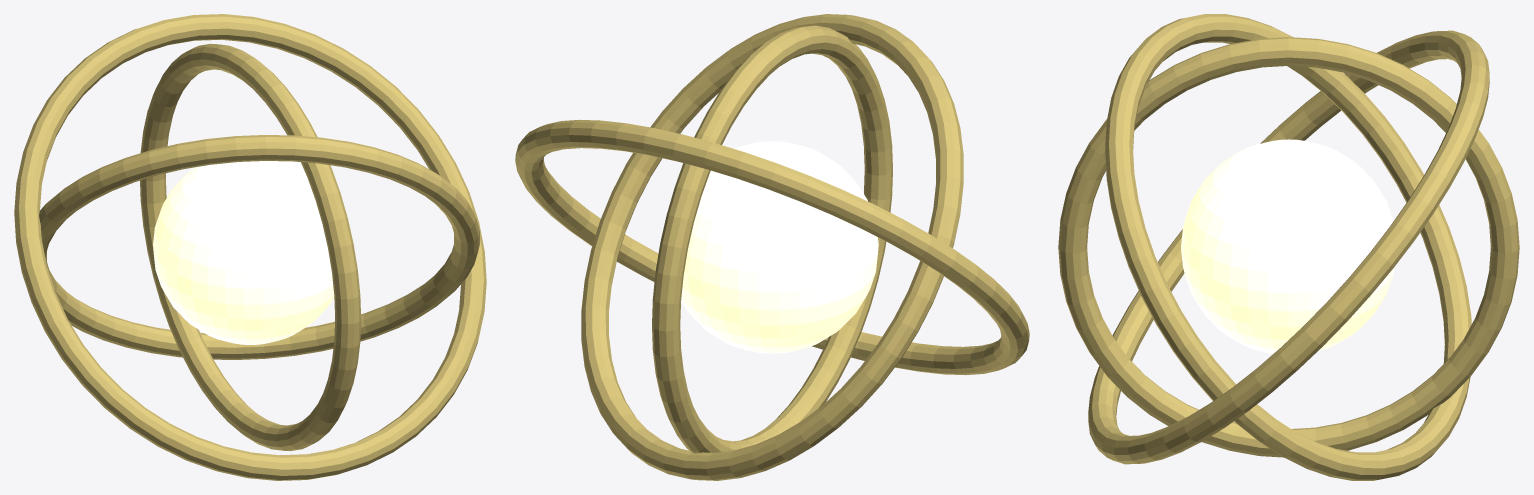
Rendered from AstralAstrolabeReliquary.glb.
The picture shows the model from 3 angles, left to right: view 1: azimuth 30°, elevation 25°; view 2: azimuth 150°, elevation 25°; view 3: azimuth 270°, elevation 25°; orthographic projection. The views are drawn at different scales.
Visible parts, largest first — view 1: AstralAstrolabeReliquary; view 2: AstralAstrolabeReliquary; view 3: AstralAstrolabeReliquary.
Part boxes in pixels (x1,y1,x2,y2): AstralAstrolabeReliquary: [14, 14, 486, 480]; AstralAstrolabeReliquary: [515, 14, 1029, 480]; AstralAstrolabeReliquary: [1058, 14, 1519, 480].
Size of the model in its own units: 2.32 by 1.92 by 1.92.
